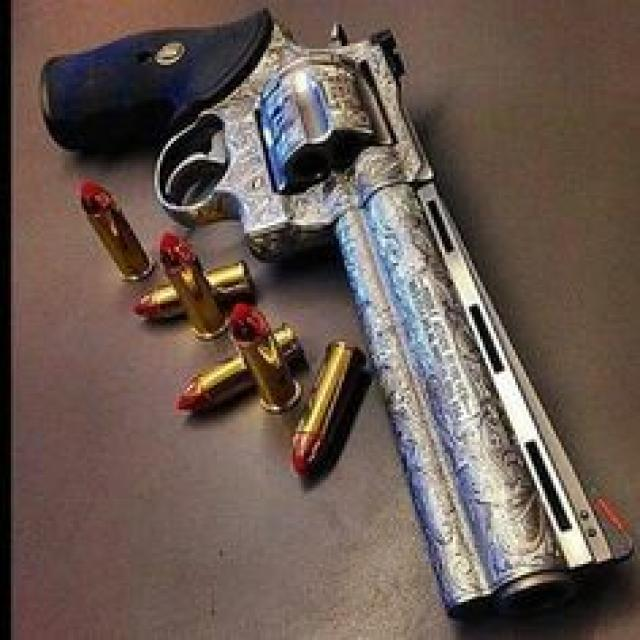revolver: (18, 4, 640, 640)
